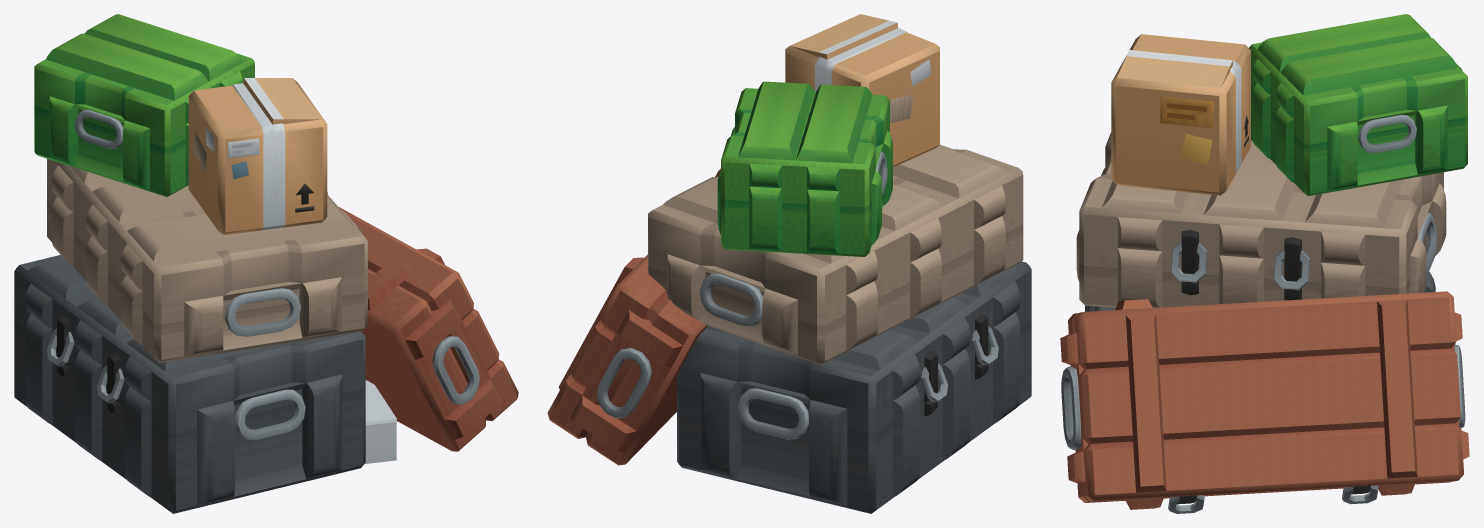
Rendered from Containers_Pile_Large.gltf.
The picture shows the model from 3 angles, left to right: view 1: azimuth 30°, elevation 25°; view 2: azimuth 150°, elevation 25°; view 3: azimuth 270°, elevation 25°; orthographic projection. The views are drawn at different scales.
Parts seen in each view (by area): view 1: Containers_Pile_Large; view 2: Containers_Pile_Large; view 3: Containers_Pile_Large.
Part boxes in pixels (x1=…): Containers_Pile_Large: x1=14, y1=14, x2=518, y2=513; Containers_Pile_Large: x1=547, y1=14, x2=1031, y2=513; Containers_Pile_Large: x1=1060, y1=14, x2=1469, y2=513.
Bounding box in the file's own units: 1.83 × 1.75 × 1.73.
1 material, 1 textured.
